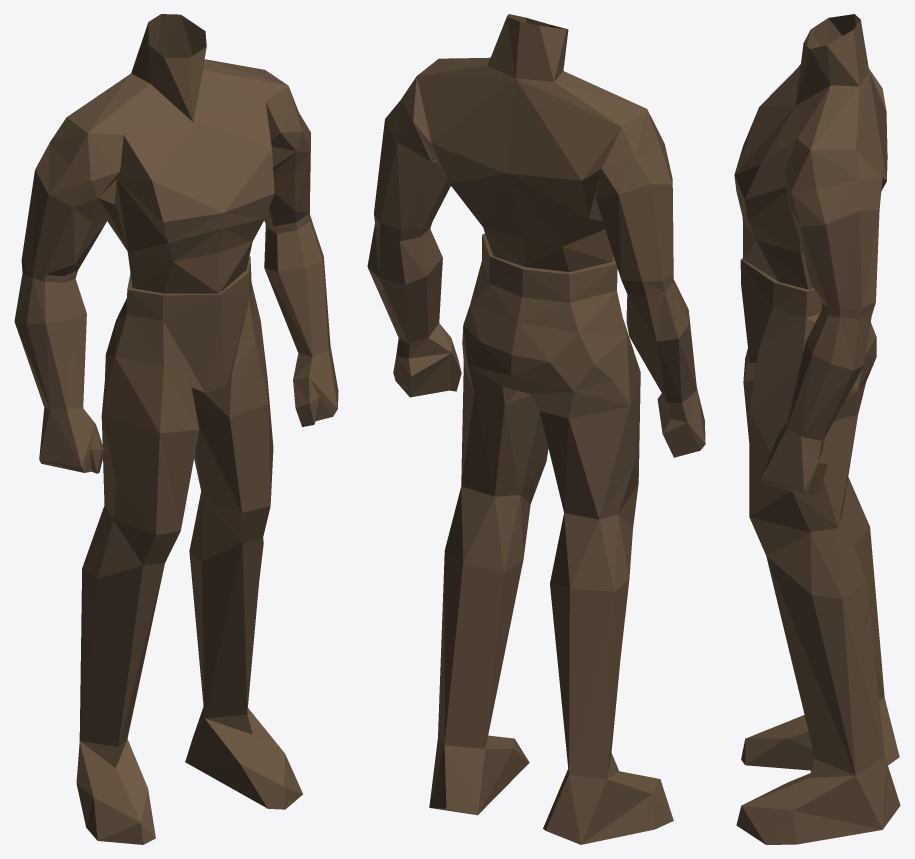
File: HUM_BODY_NAKED0.OBJ
3 renders of one model, left to right at view 1: azimuth 30°, elevation 25°; view 2: azimuth 150°, elevation 25°; view 3: azimuth 270°, elevation 25°, orthographic. The views are drawn at different scales.
Parts seen in each view (by area): view 1: HUM_BODY_NAKED0; view 2: HUM_BODY_NAKED0; view 3: HUM_BODY_NAKED0.
Part boxes in pixels (<box>): HUM_BODY_NAKED0: <box>14,14,338,844</box>; HUM_BODY_NAKED0: <box>367,14,705,844</box>; HUM_BODY_NAKED0: <box>734,14,900,844</box>.
Size of the model in its own units: 0.6879 by 1.69 by 0.3269.
